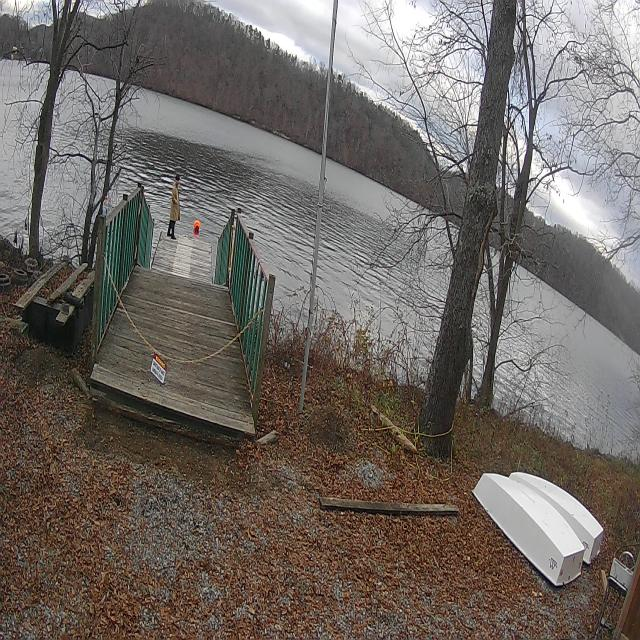Buoy: (192, 218, 201, 236)
